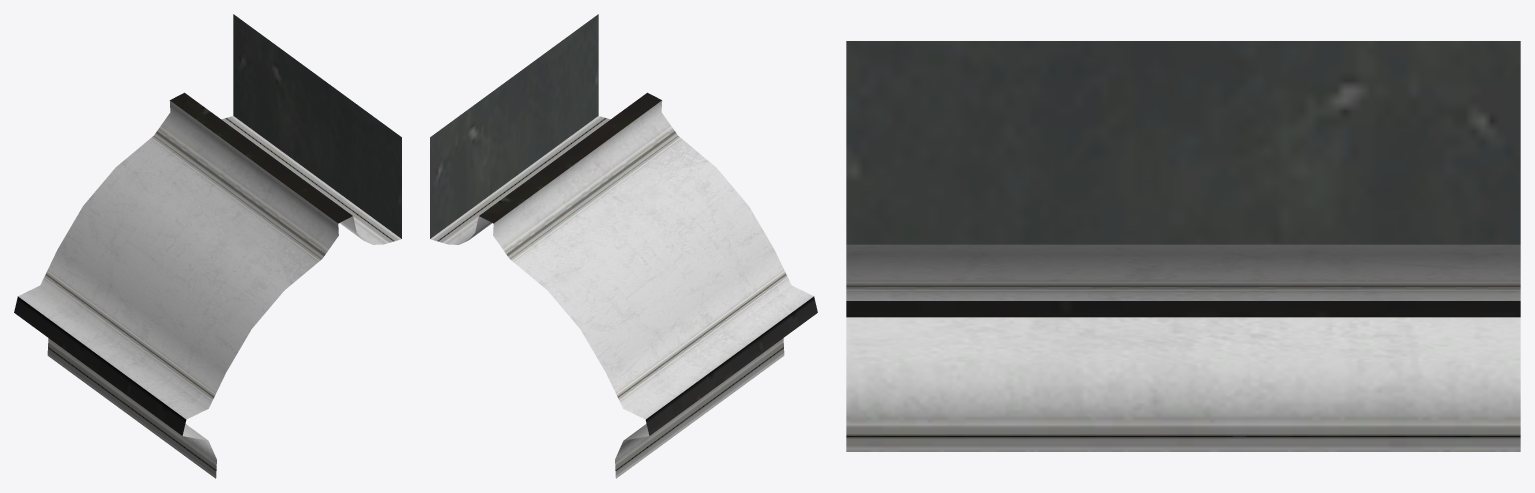
The model's file is Neon_Wall_1x4_Top.FBX.
The picture shows the model from 3 angles, left to right: view 1: azimuth 30°, elevation 25°; view 2: azimuth 150°, elevation 25°; view 3: azimuth 270°, elevation 25°; orthographic projection. The views are drawn at different scales.
Visible parts, largest first — view 1: Neon_Wall_1x4_Top; view 2: Neon_Wall_1x4_Top; view 3: Neon_Wall_1x4_Top.
Part boxes in pixels (bbox=[...]): Neon_Wall_1x4_Top: bbox=[14, 14, 401, 478]; Neon_Wall_1x4_Top: bbox=[430, 14, 817, 478]; Neon_Wall_1x4_Top: bbox=[846, 41, 1520, 451].
Size of the model in its own units: 1.13 by 1.45 by 1.5.
